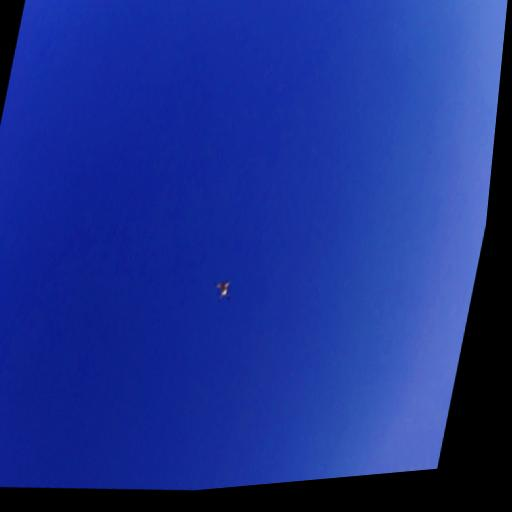drones: (208, 269, 237, 306)
